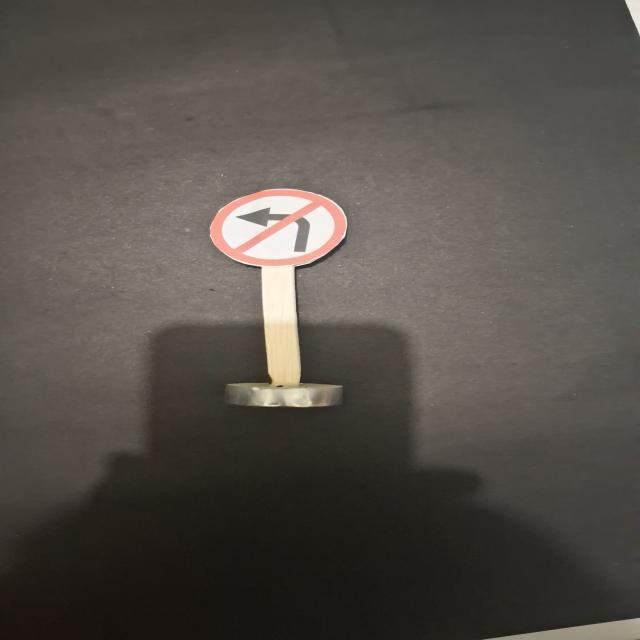Dilarang Belok Kiri: (210, 190, 347, 266)
